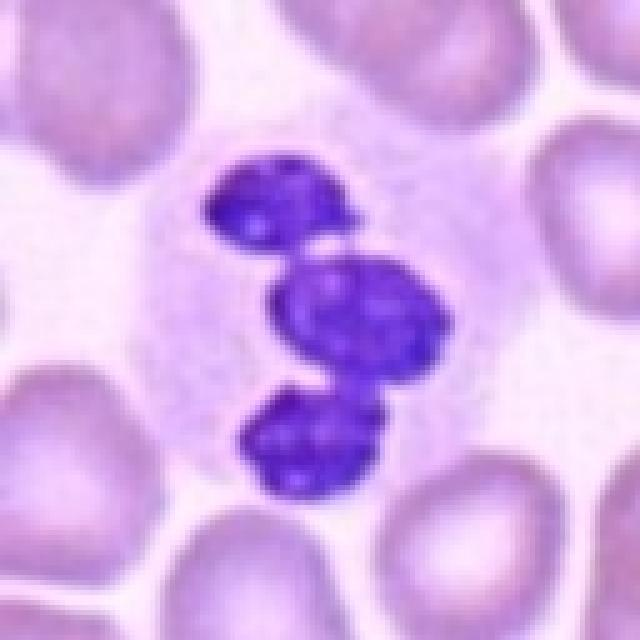neutro: (122, 51, 522, 523)
